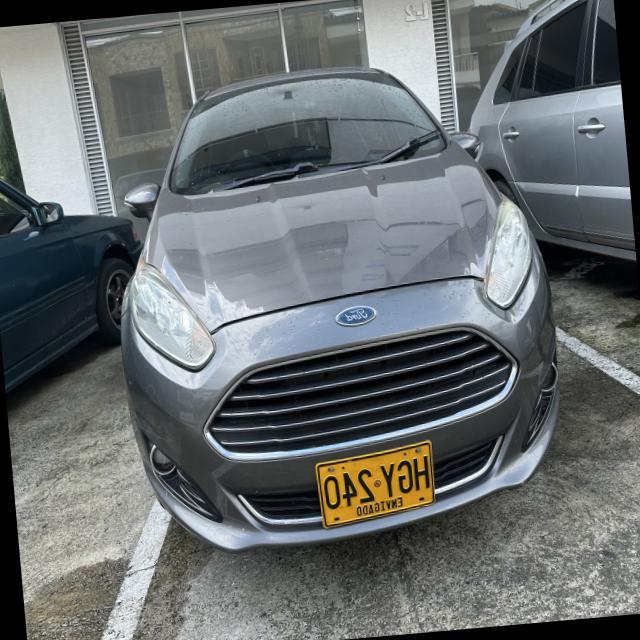number plate: (316, 439, 435, 527)
